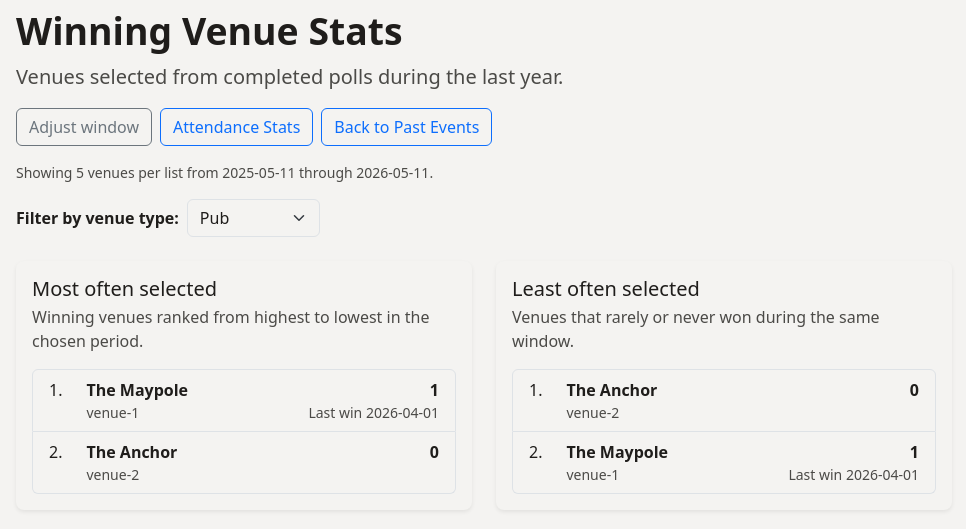
Test: WinningVenueStatsPage › shows only restaurant venues when restaurant filter is selected
Select "Restaurant" in the dropdown labelled "Filter by venue type:" at {"x": 253, "y": 218}, box x1=187 y1=199 x2=320 y2=237
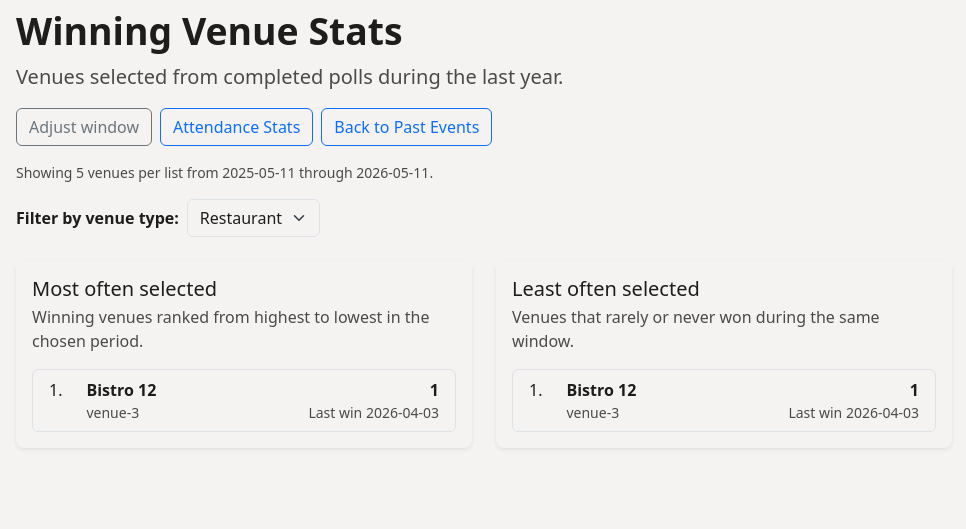
Now the text "Bistro 12" below "Most often selected" is shown, box x1=86 y1=379 x2=156 y2=401
Now the text "The Maypole" is gone
